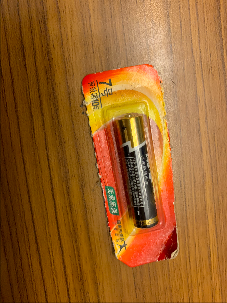Nonfood: (71, 51, 182, 279)
